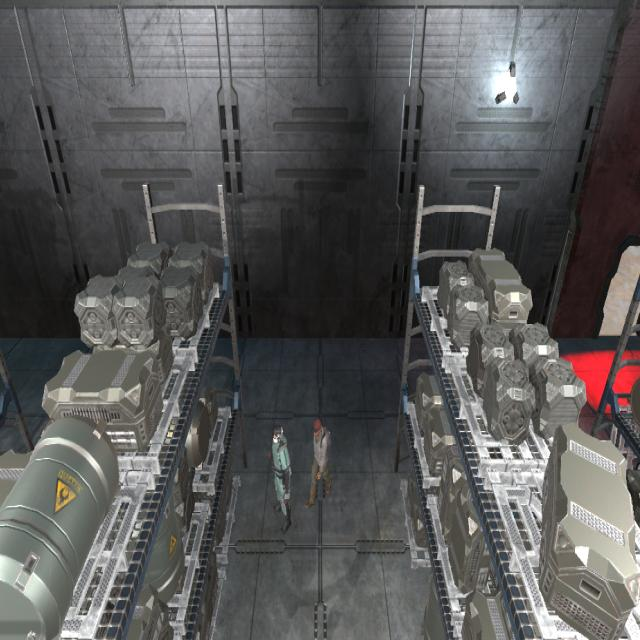thiefs: (302, 417, 334, 514)
